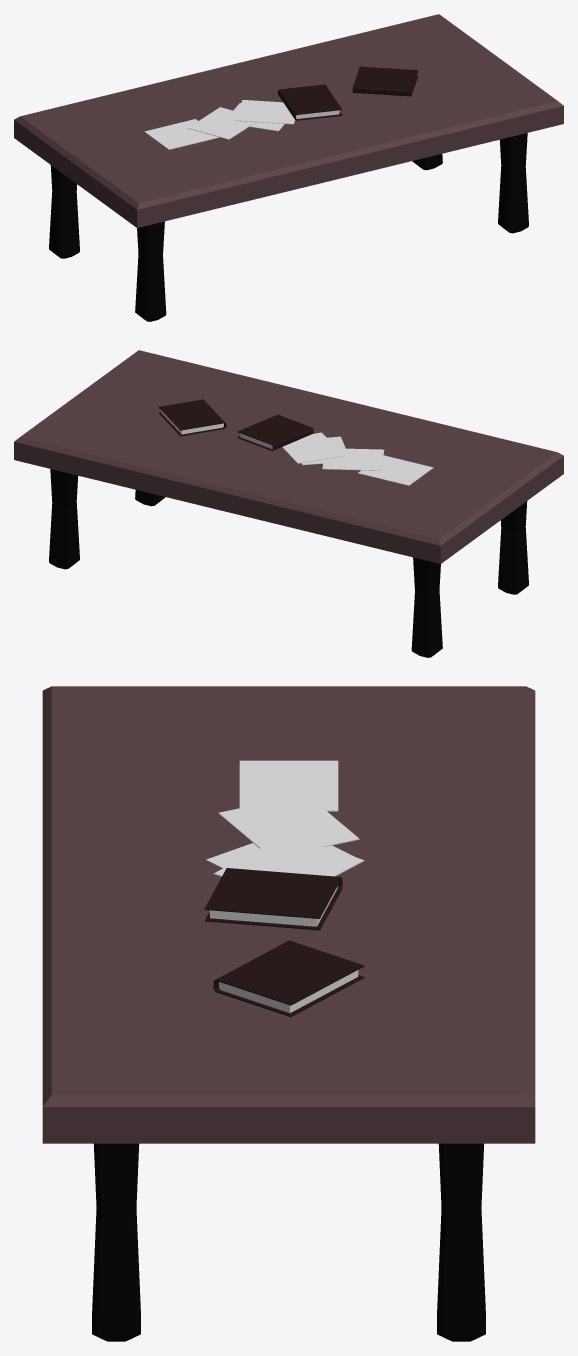
File: sto_1.fbx
3 views of the same model, one above another, from view 1: azimuth 30°, elevation 25°; view 2: azimuth 150°, elevation 25°; view 3: azimuth 270°, elevation 25° (orthographic). The views are drawn at different scales.
Visible parts, largest first — view 1: Cube.002; view 2: Cube.002; view 3: Cube.002.
Part boxes in pixels (left/top/right/bottom): Cube.002: left=14, top=14, right=563, bottom=321; Cube.002: left=14, top=350, right=563, bottom=657; Cube.002: left=42, top=686, right=535, bottom=1341.
Size of the model in its own units: 400 by 128 by 200.
